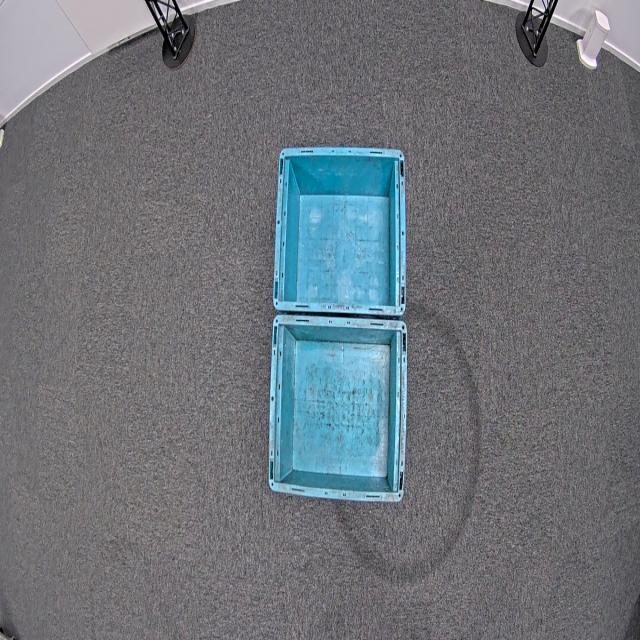RollB8: (267, 143, 410, 509)
